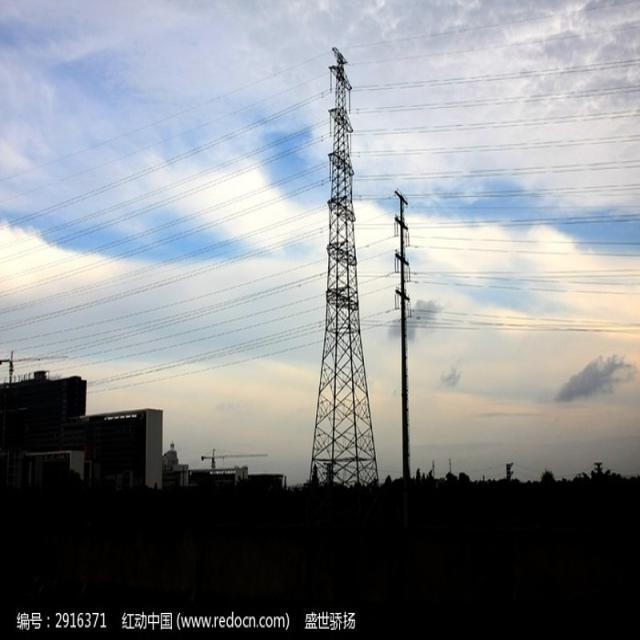non-critical vegetation: (292, 44, 383, 479)
